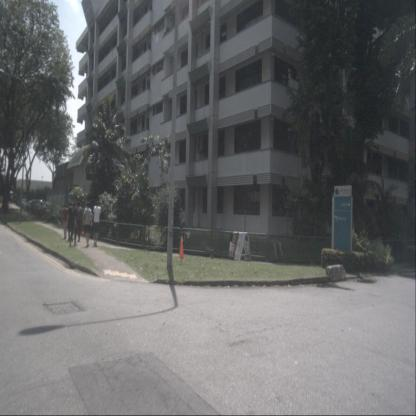cone: (179, 236, 184, 260)
